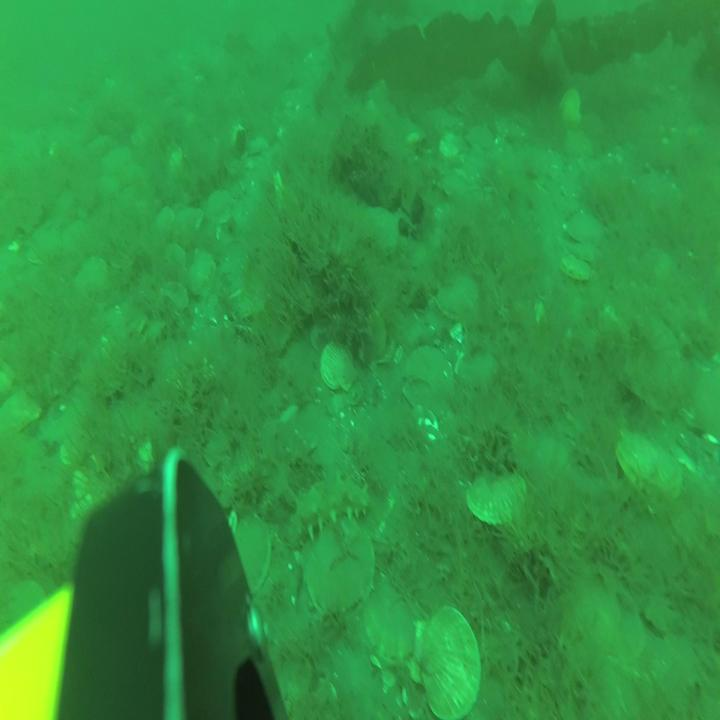holothurian: (280, 474, 367, 550)
scallop: (562, 563, 644, 680), (412, 603, 480, 719), (617, 308, 679, 401), (307, 528, 374, 614), (613, 426, 681, 504), (364, 575, 416, 665), (405, 344, 453, 419), (466, 464, 524, 526), (232, 518, 273, 604), (435, 270, 478, 323), (352, 299, 387, 362), (0, 392, 44, 439), (363, 204, 398, 259), (323, 339, 353, 394), (74, 261, 108, 301), (185, 251, 214, 292), (564, 252, 596, 284), (566, 212, 598, 243), (163, 283, 187, 323), (561, 132, 594, 161), (557, 87, 582, 125), (574, 234, 602, 265)
